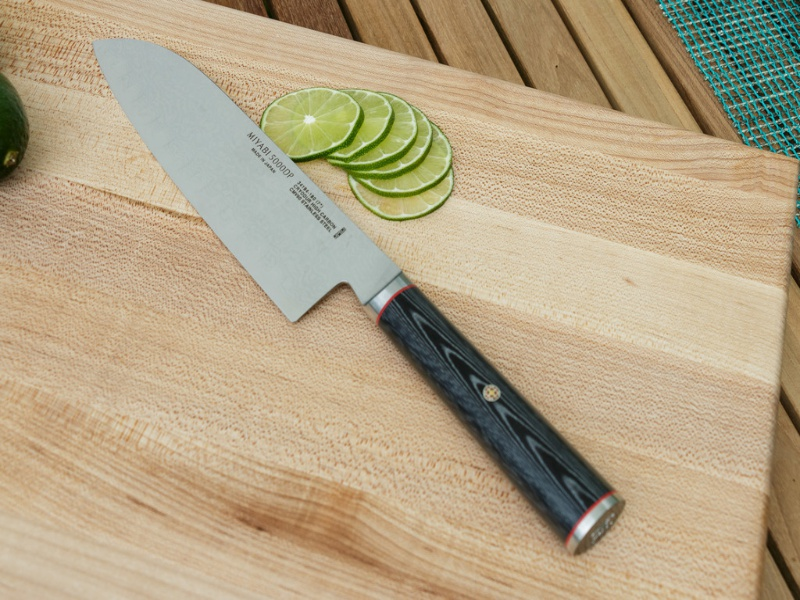knife: (86, 31, 625, 558)
